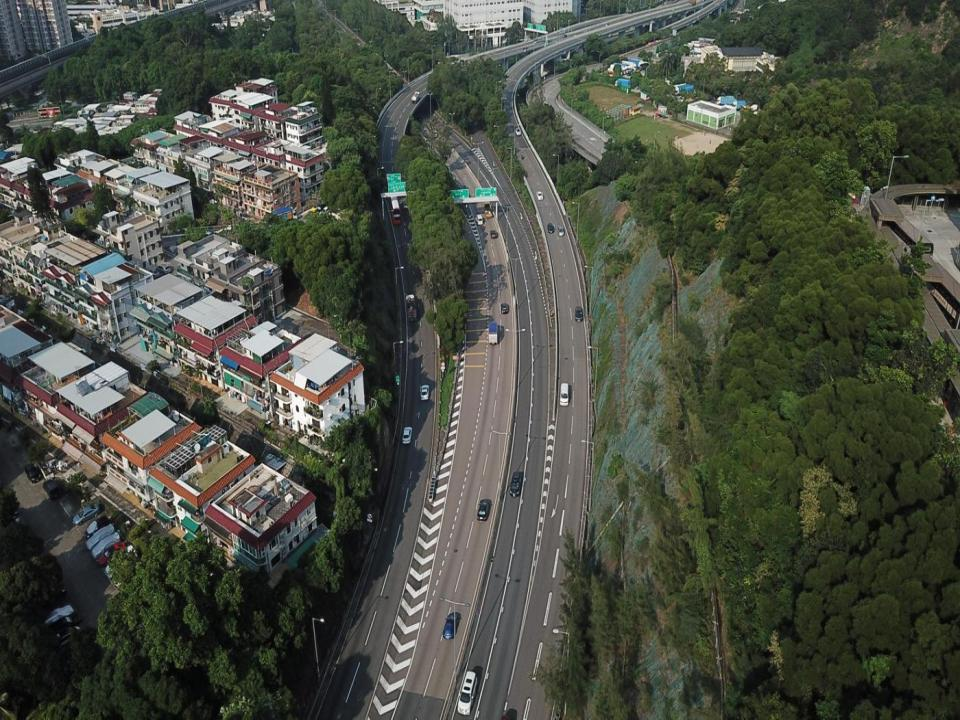bus: (387, 189, 402, 226)
car: (52, 623, 84, 653), (42, 603, 74, 632), (33, 580, 66, 608), (49, 613, 84, 639), (90, 531, 120, 561), (85, 523, 116, 551), (97, 540, 127, 567), (72, 502, 101, 526), (442, 613, 459, 640), (42, 478, 61, 501), (24, 463, 42, 483), (477, 498, 491, 522), (510, 471, 522, 497), (402, 426, 413, 444), (575, 305, 584, 323), (420, 384, 429, 401), (500, 301, 509, 314), (546, 223, 554, 233), (536, 191, 544, 201), (558, 226, 565, 236), (515, 127, 522, 136), (490, 230, 497, 238), (562, 33, 568, 38), (604, 22, 610, 27), (522, 46, 529, 50)
truck: (405, 293, 418, 322), (674, 83, 695, 96), (488, 321, 498, 345), (740, 102, 758, 115), (715, 95, 735, 106), (614, 78, 631, 90), (730, 98, 747, 109), (483, 203, 492, 218), (411, 90, 420, 103)
van: (103, 545, 138, 579), (457, 670, 478, 715), (560, 382, 569, 407), (476, 213, 483, 226)
